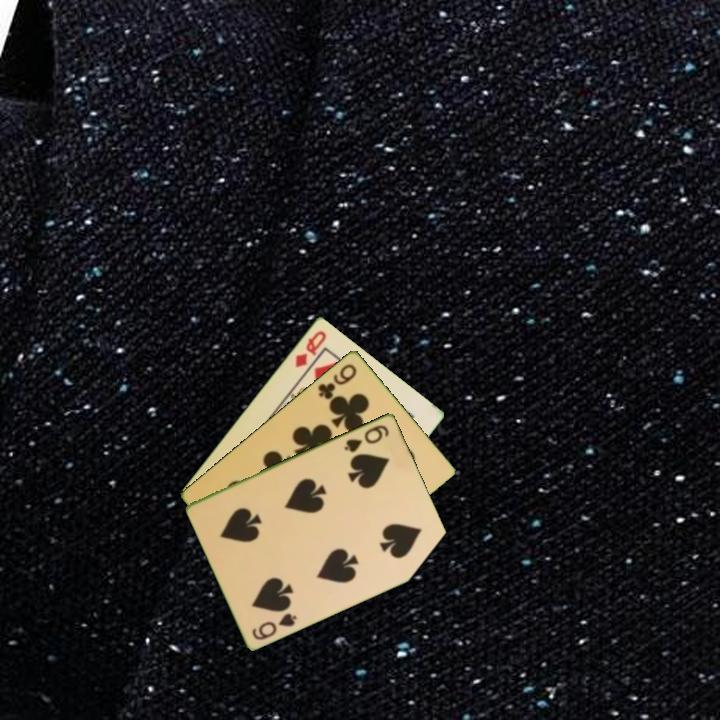6s: (248, 609, 300, 643), (341, 421, 392, 455)
9c: (314, 360, 360, 402)
Qd: (291, 326, 329, 370)
